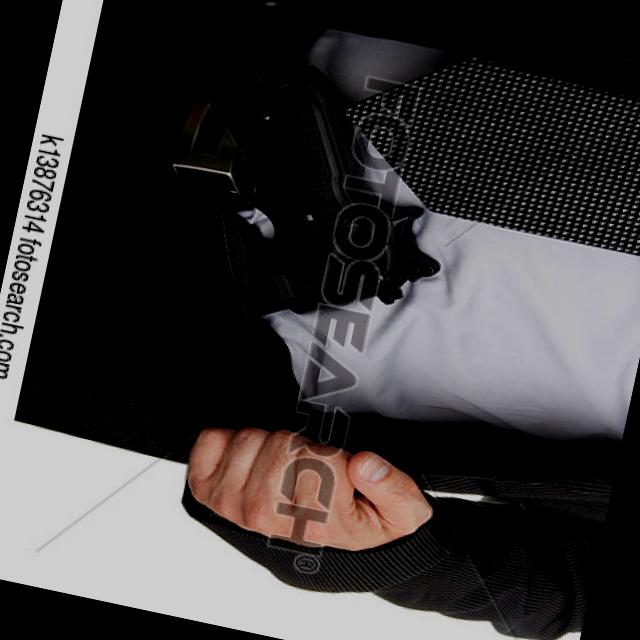handgun: (156, 41, 472, 372)
